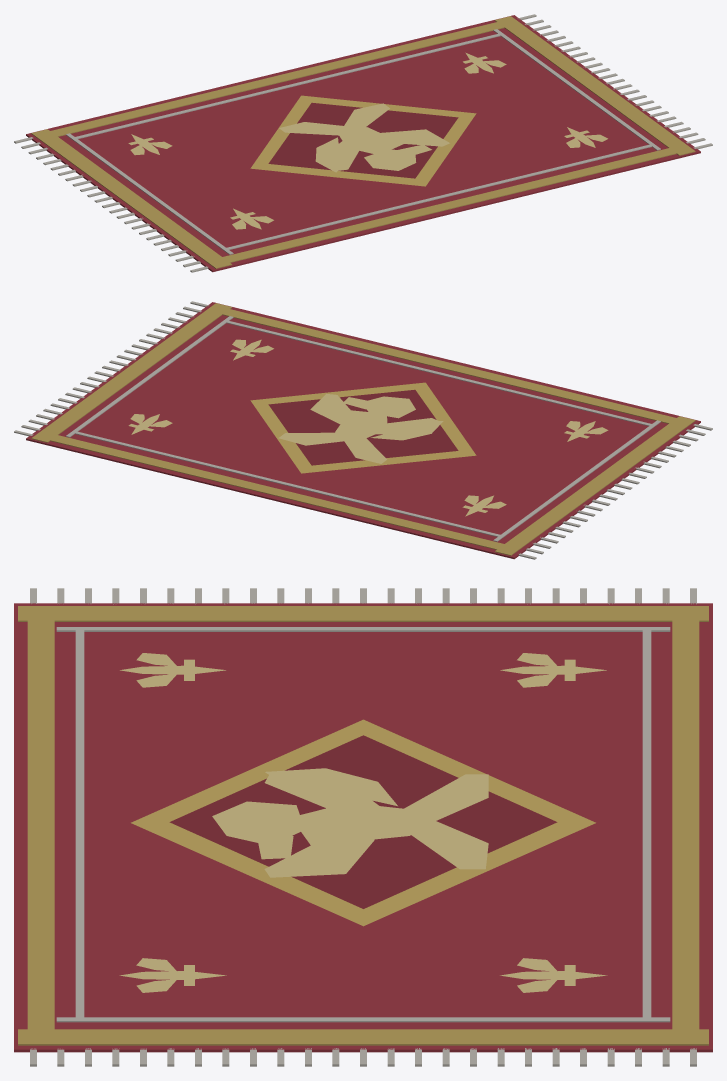
The model's file is palace_rug_red.glb.
3 views of the same model, one above another, from view 1: azimuth 30°, elevation 25°; view 2: azimuth 150°, elevation 25°; view 3: azimuth 270°, elevation 25° (orthographic). The views are drawn at different scales.
Parts seen in each view (by area): view 1: palace_rug_red; view 2: palace_rug_red; view 3: palace_rug_red.
Part boxes in pixels (x1=…): palace_rug_red: x1=14, y1=14, x2=712, y2=272; palace_rug_red: x1=14, y1=301, x2=712, y2=559; palace_rug_red: x1=14, y1=588, x2=712, y2=1066.
Bounding box in the file's own units: 2.9 × 0.023 × 1.8.
